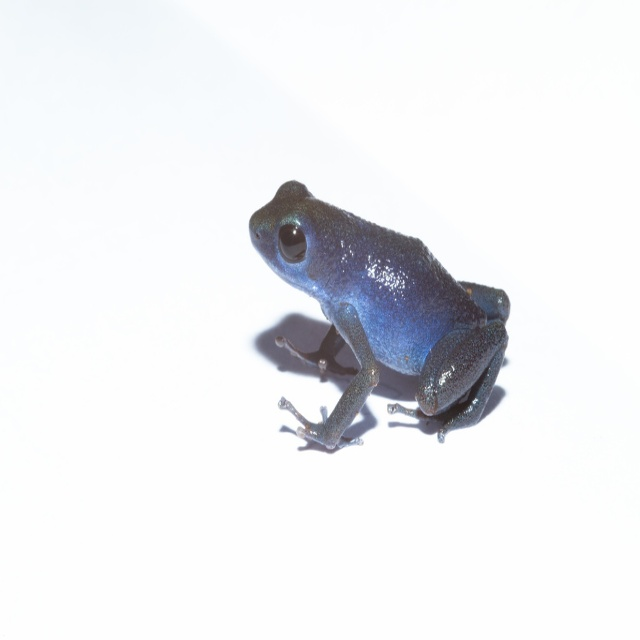Frog: (248, 181, 512, 453)
